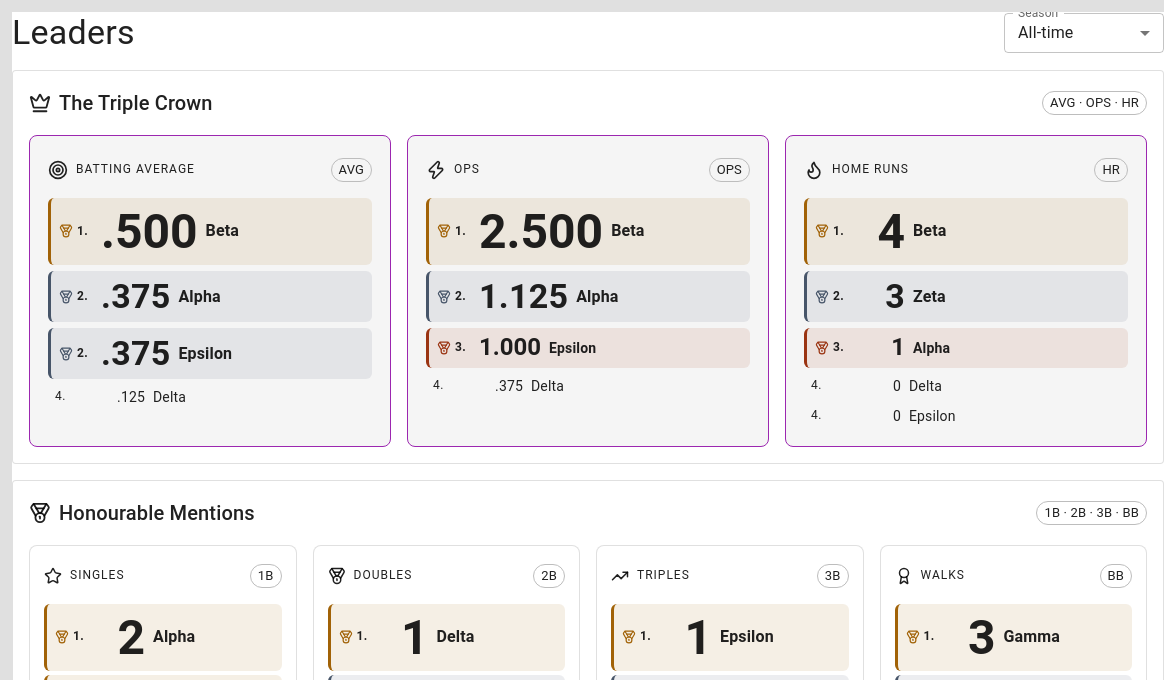
LeadersPage › defaults to all-time and switches to a single season
The width and height of the screenshot is (1164, 680).
Press the mouse on the dropdown named "Season" at (1046, 33), box [1018,24,1074,42]
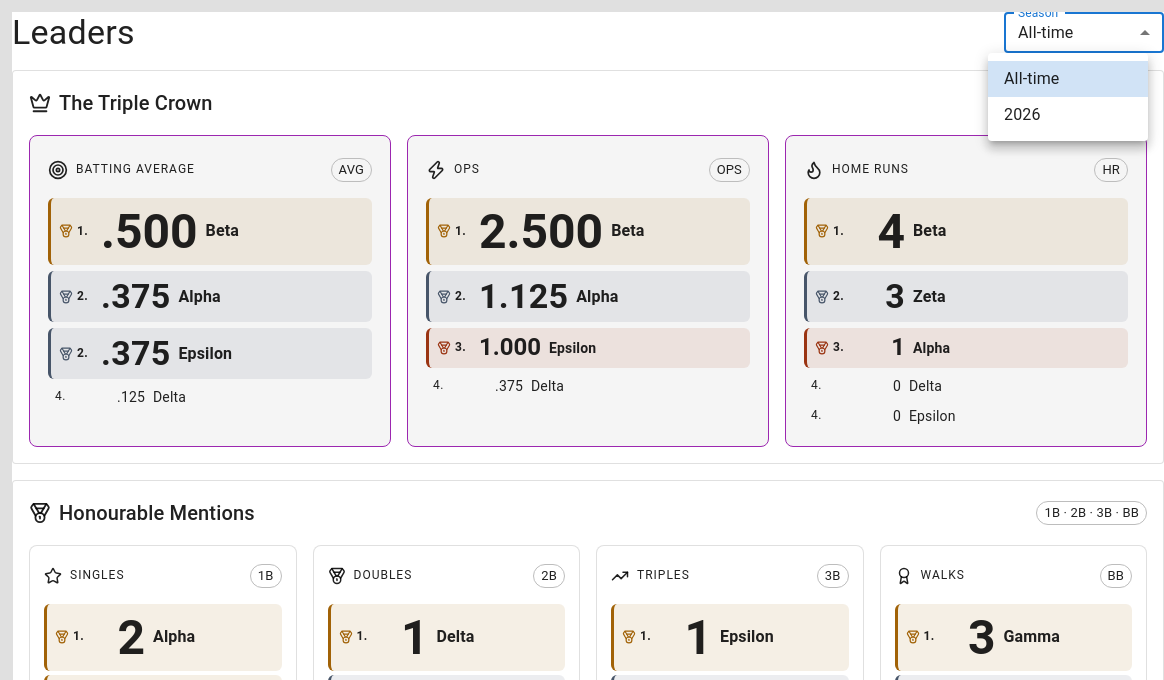
Click the option "2026".
click(1022, 114)  # box [1004,105,1041,124]
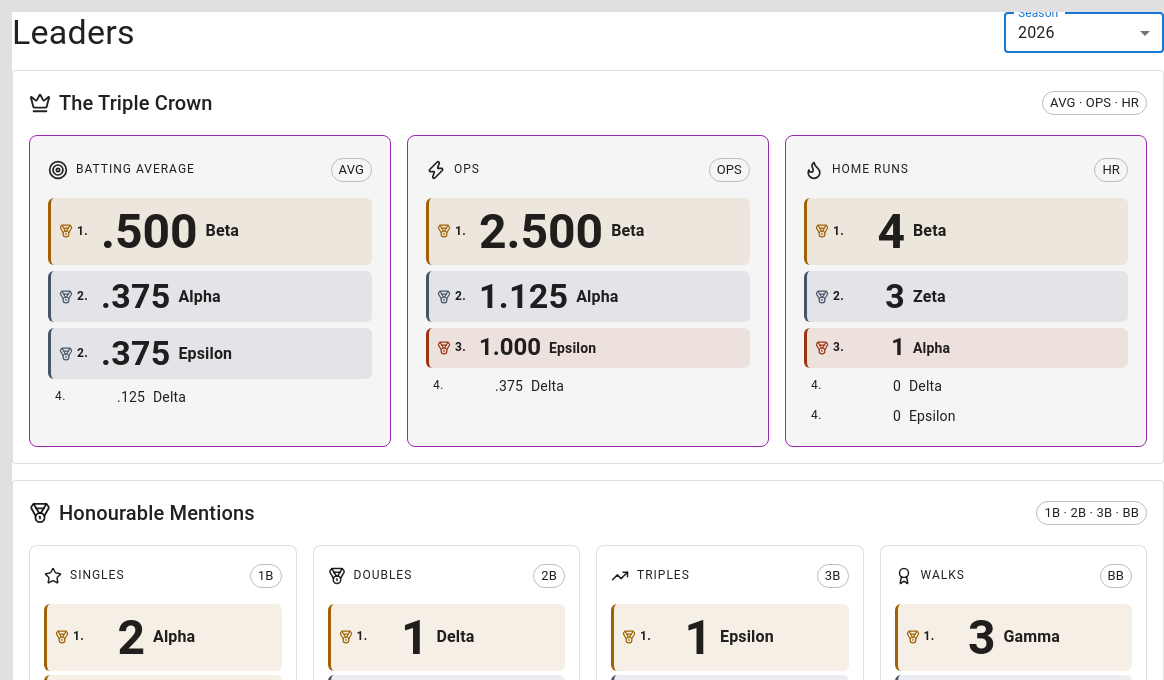
Expected: the dropdown named "Season" reads "2026", [1018,24,1055,42]
